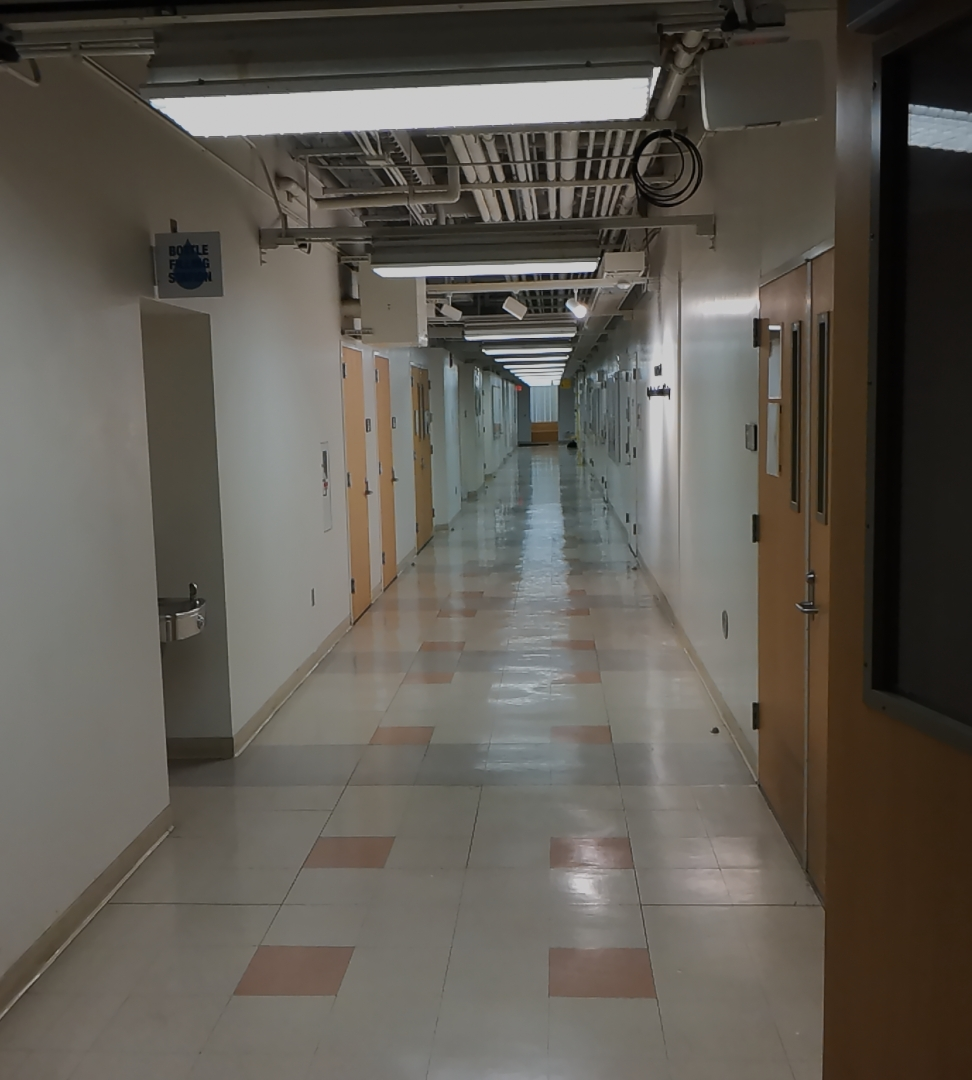emergency_exit: (151, 227, 225, 300)
